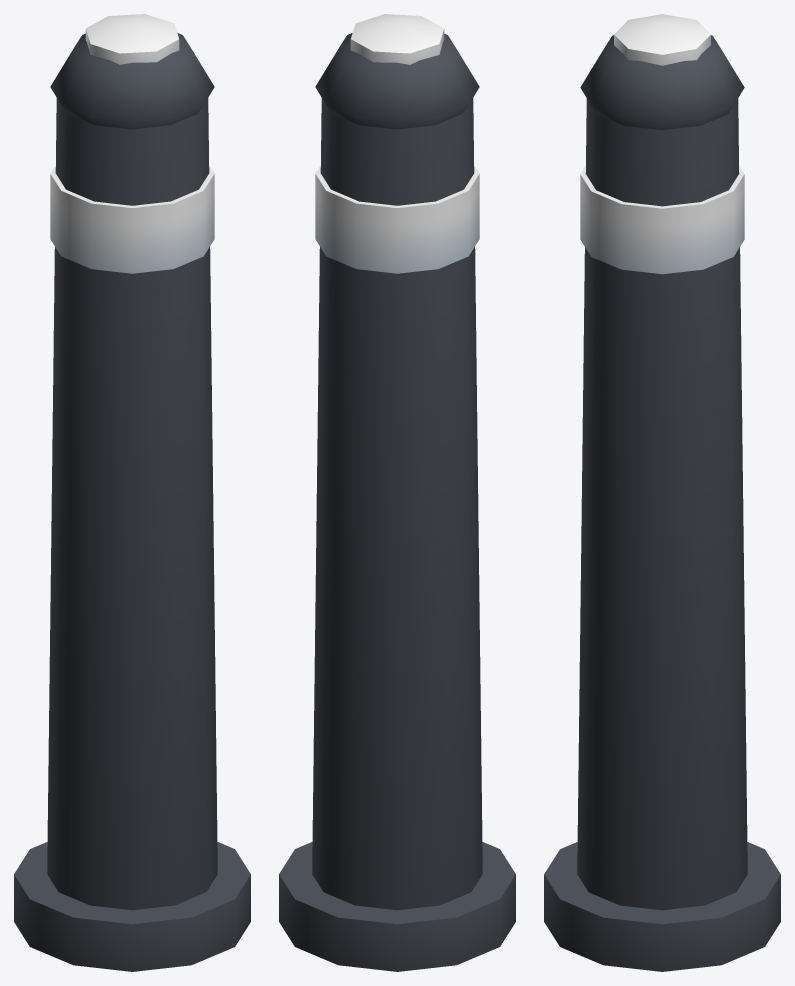
Rendered from ck_bollard.fbx.
The picture shows the model from 3 angles, left to right: view 1: azimuth 30°, elevation 25°; view 2: azimuth 150°, elevation 25°; view 3: azimuth 270°, elevation 25°; orthographic projection.
Parts seen in each view (by area): view 1: ck_bollard; view 2: ck_bollard; view 3: ck_bollard.
Part boxes in pixels (x1,y1,x2,y2): ck_bollard: (14, 14, 250, 971); ck_bollard: (279, 14, 515, 971); ck_bollard: (544, 14, 780, 971).
Size of the model in its own units: 35.8 by 150 by 35.8.
